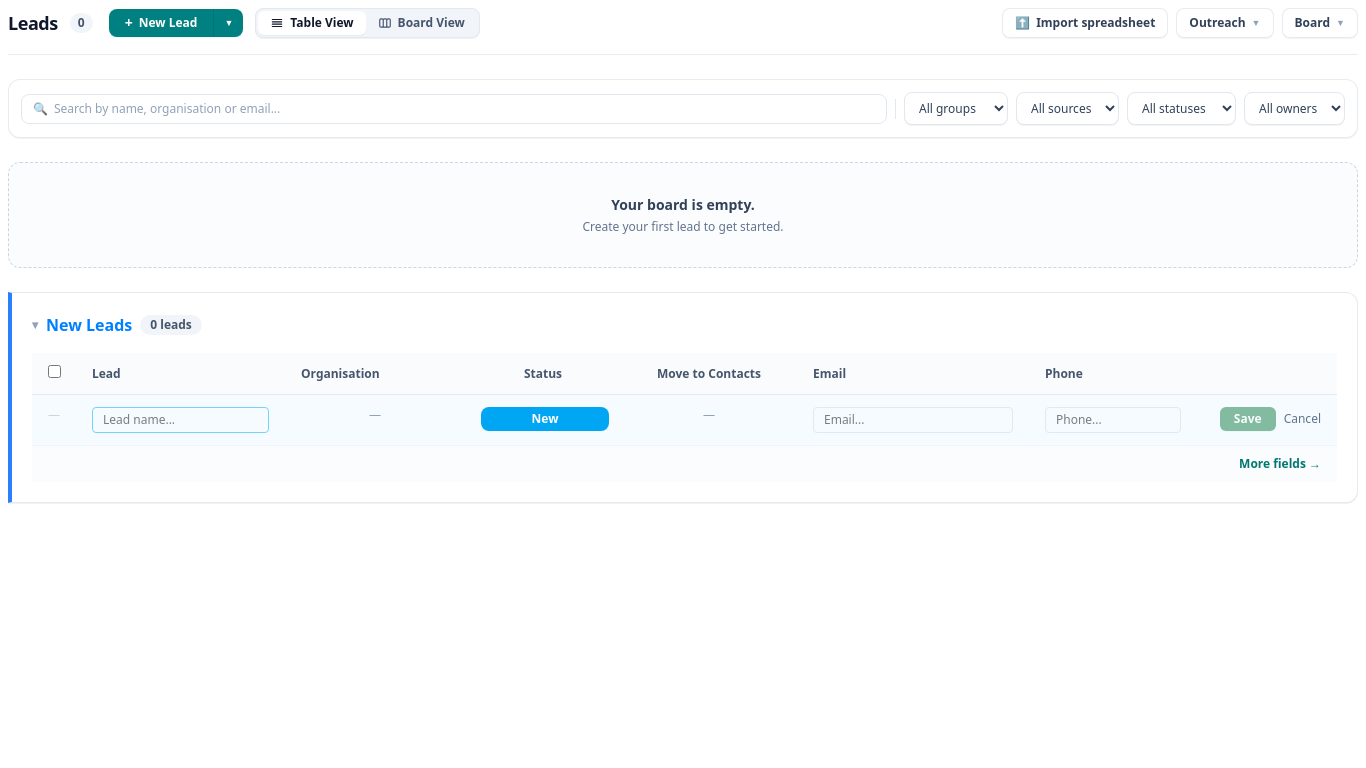
Test: LeadsPage › typing a lead into the table › says why the server refused, without losing what was typed
Check: the heading "New Leads" is shown, box [46,313,132,337]
Step 1. Type "Priya Kapoor" into the field labelled "Lead name" → point(180, 420), box [92,407,269,433]
Then press Enter
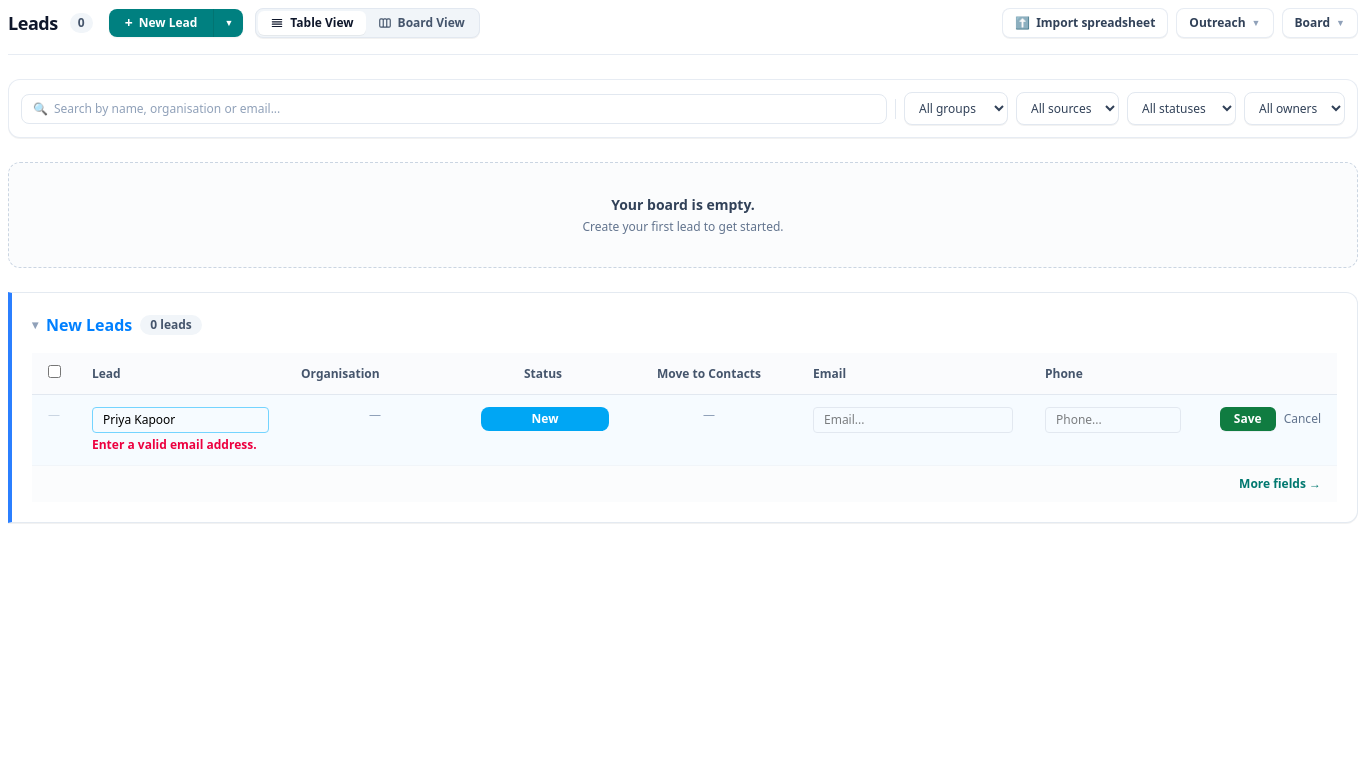
Check: the text "Enter a valid email address." is shown, box [92,437,269,453]
